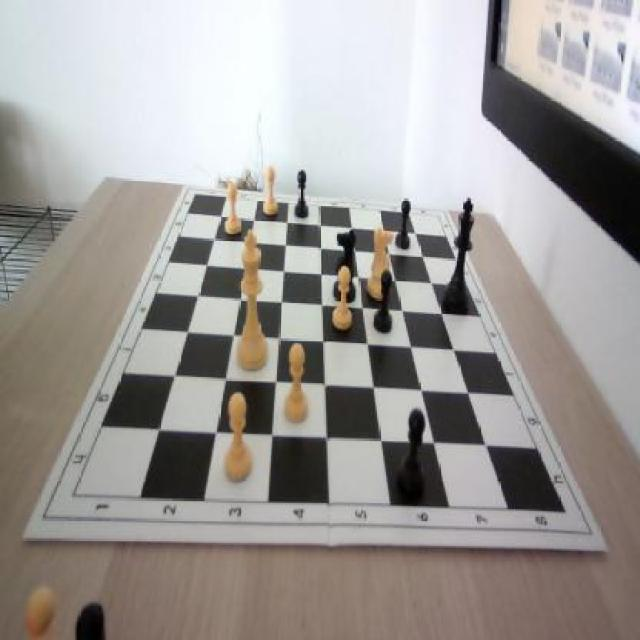black-bishop: (444, 197, 476, 311)
black-king: (336, 226, 358, 305)
black-knight: (398, 408, 428, 497), (374, 268, 395, 335), (395, 198, 411, 252), (294, 169, 309, 219)
white-bishop: (236, 226, 268, 371)
white-king: (368, 226, 394, 299)
white-knight: (221, 392, 254, 482), (285, 338, 310, 424), (332, 268, 356, 337), (262, 168, 280, 216), (225, 183, 242, 233)
